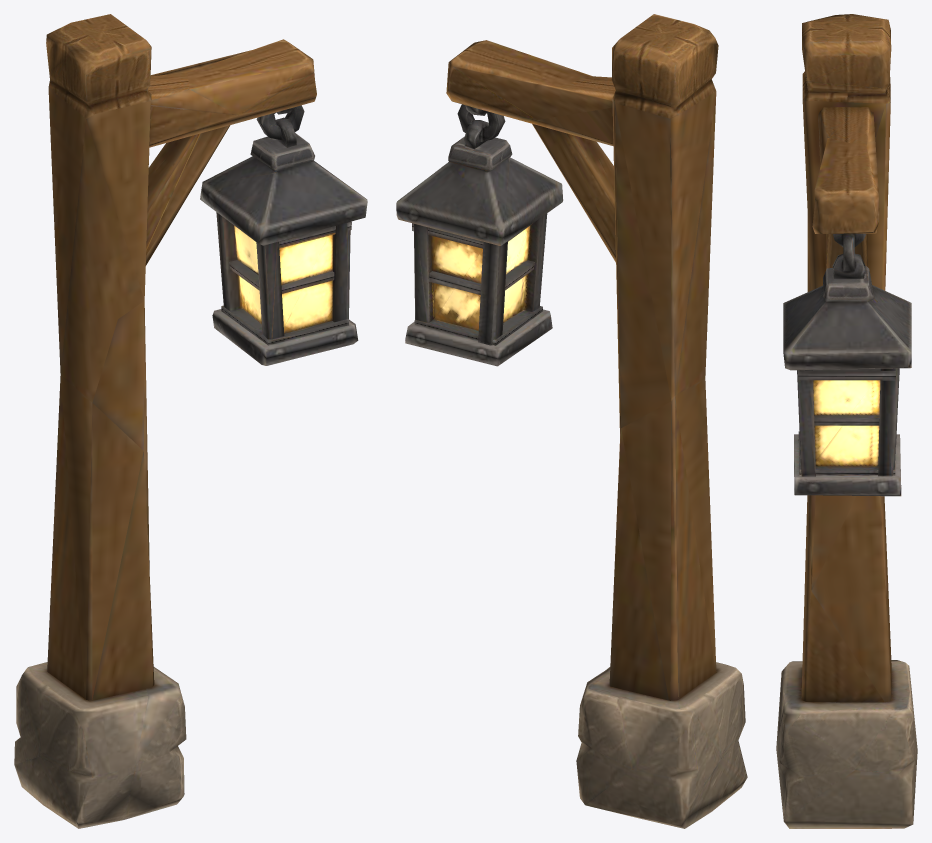
Rendered from lantern.glb.
3 views of the same model, side by side, from view 1: azimuth 30°, elevation 25°; view 2: azimuth 150°, elevation 25°; view 3: azimuth 270°, elevation 25° (orthographic).
Parts seen in each view (by area): view 1: lantern; view 2: lantern; view 3: lantern.
Part boxes in pixels (x1,y1,x2,y2): lantern: (14, 14, 367, 828); lantern: (396, 14, 747, 828); lantern: (776, 14, 917, 828).
Size of the model in its own units: 0.3671 by 0.9 by 0.1482.
Materials: 2 (2 with a texture image).
